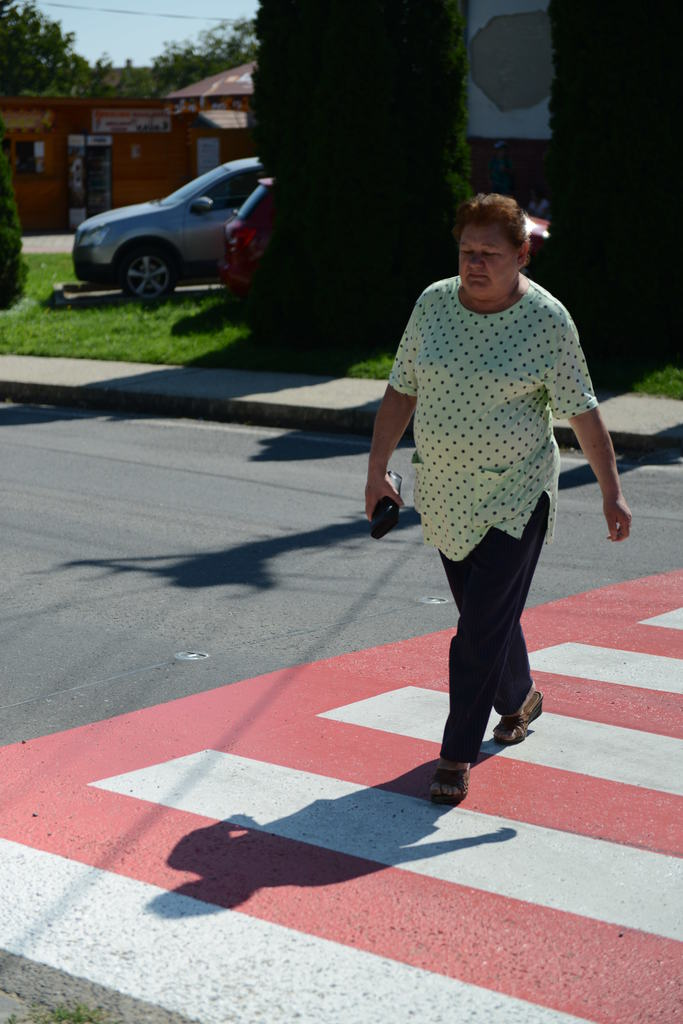Car: (57, 140, 289, 299), (202, 170, 272, 304)
